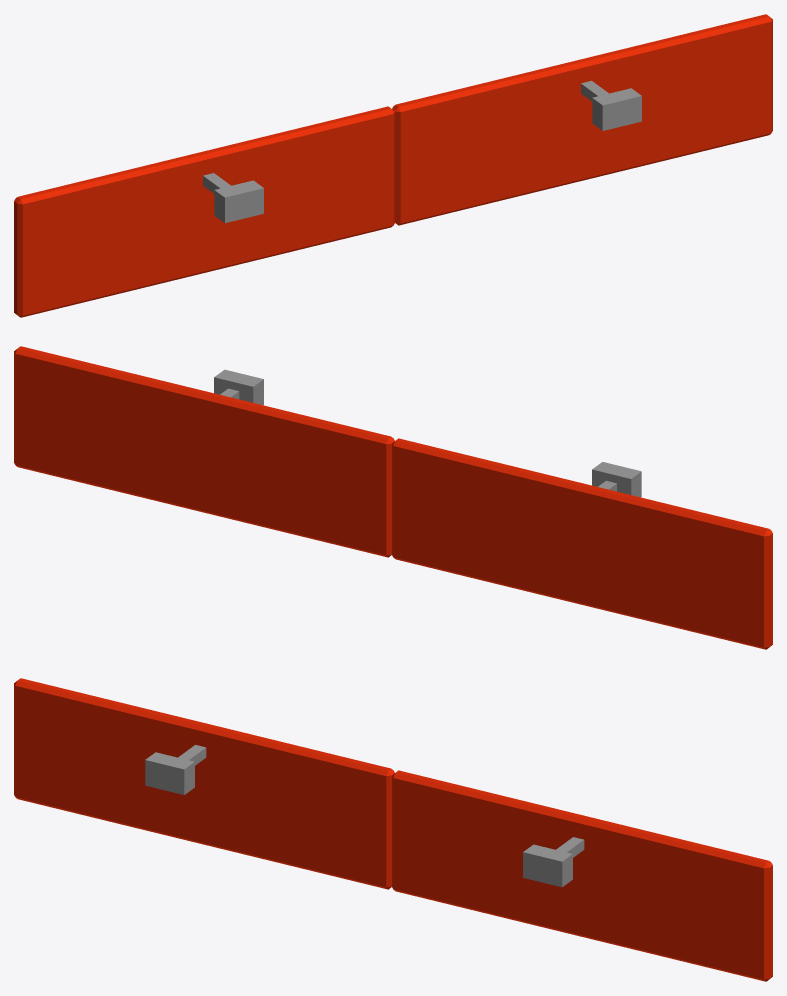
File: RailWide2m.fbx
The picture shows the model from 3 angles, top to bottom: view 1: azimuth 30°, elevation 25°; view 2: azimuth 150°, elevation 25°; view 3: azimuth 330°, elevation 25°; orthographic projection.
Visible parts, largest first — view 1: RailWide2m; view 2: RailWide2m; view 3: RailWide2m.
Part boxes in pixels (left/top/right/bottom): RailWide2m: left=14, top=14, right=772, bottom=317; RailWide2m: left=14, top=346, right=772, bottom=649; RailWide2m: left=14, top=678, right=772, bottom=981.
Bounding box in the file's own units: 200 × 30 × 20.
